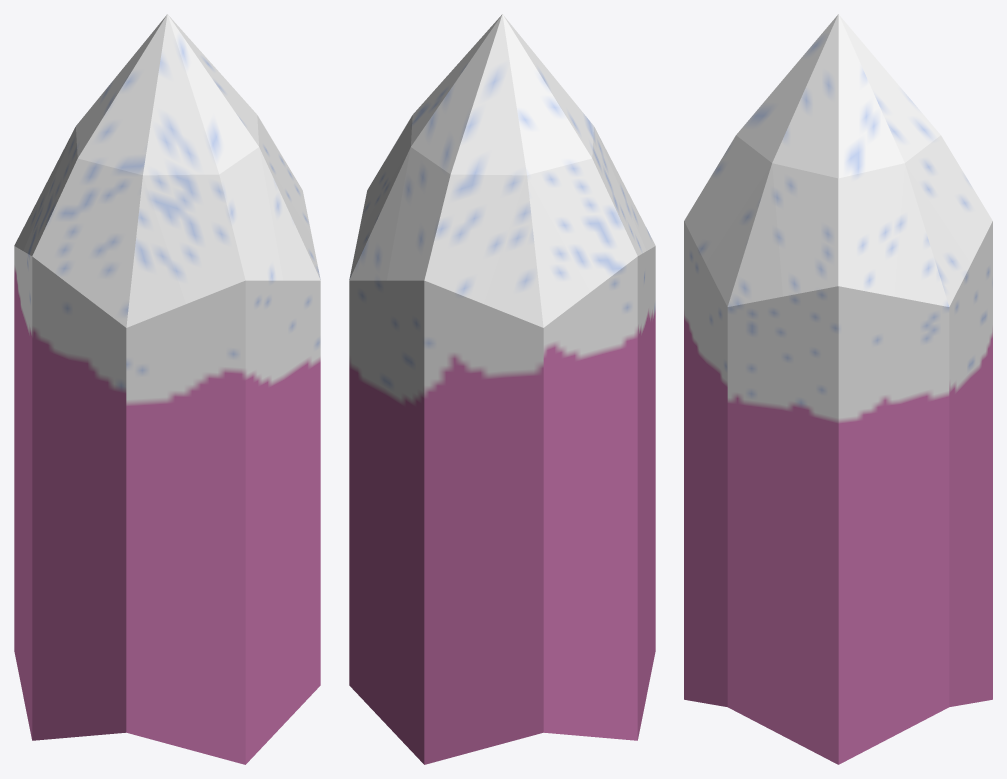
The model's file is Crystal_Castle_Structure_01.obj.
3 renders of one model, left to right at view 1: azimuth 30°, elevation 25°; view 2: azimuth 150°, elevation 25°; view 3: azimuth 270°, elevation 25°, orthographic.
Visible parts, largest first — view 1: Cube; view 2: Cube; view 3: Cube.
Boxes of the visible parts, x1,y1,x2,y2 form: Cube: (14,14,320,764); Cube: (349,14,655,764); Cube: (684,14,992,764).
Bounding box in the file's own units: 2.78 × 6.82 × 2.78.
